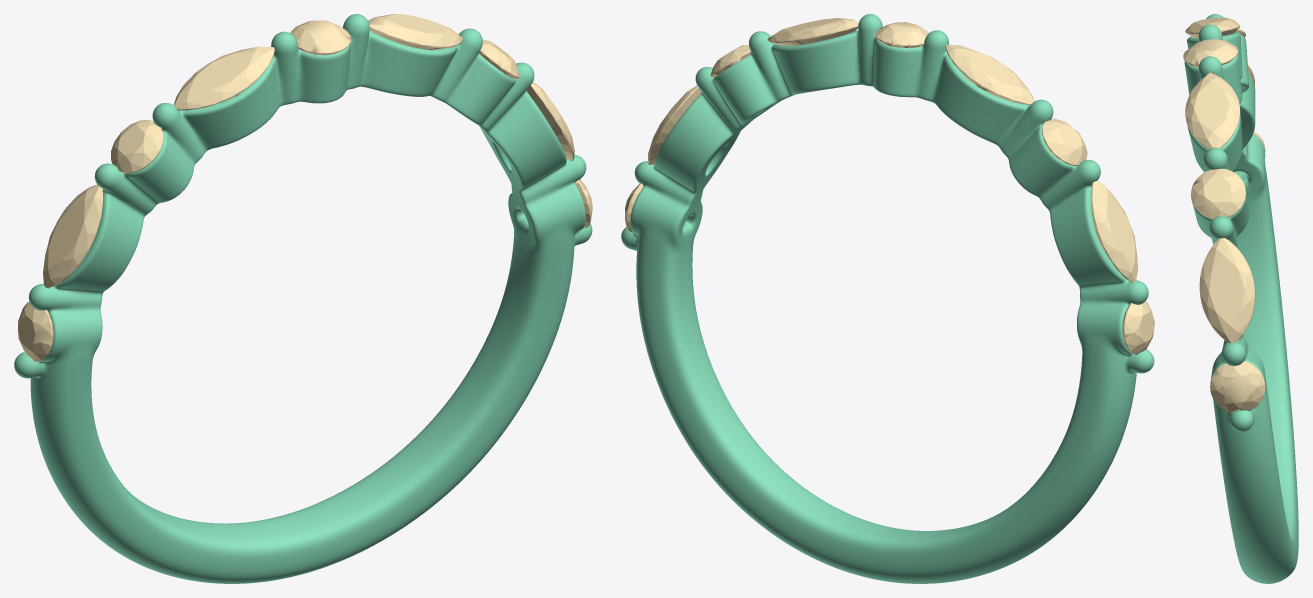
3 views of the same model, side by side, from view 1: azimuth 30°, elevation 25°; view 2: azimuth 150°, elevation 25°; view 3: azimuth 270°, elevation 25° (orthographic). The views are drawn at different scales.
Visible parts, largest first — view 1: Metal02, Diamond_Round.001, Diamond_Round.002, Diamond_Round.006, Diamond_Round, Diamond_Round.008, Diamond_Round.003, Diamond_Round.005, Diamond_Round.004; view 2: Metal02, Diamond_Round.001, Diamond_Round.002, Diamond_Round.006, Diamond_Round, Diamond_Round.003, Diamond_Round.008, Diamond_Round.005; view 3: Metal02, Diamond_Round.005, Diamond_Round.006, Diamond_Round.007, Diamond_Round.004, Diamond_Round.008, Diamond_Round.002.
Boxes of the visible parts, bbox=[...] form: Metal02: bbox=[14, 14, 592, 583]; Diamond_Round.001: bbox=[43, 184, 103, 288]; Diamond_Round.002: bbox=[174, 46, 274, 110]; Diamond_Round.006: bbox=[368, 14, 462, 49]; Diamond_Round: bbox=[111, 120, 163, 173]; Diamond_Round.008: bbox=[290, 20, 350, 55]; Diamond_Round.003: bbox=[18, 301, 53, 361]; Diamond_Round.005: bbox=[526, 82, 574, 160]; Diamond_Round.004: bbox=[479, 39, 519, 78]; Metal02: bbox=[621, 14, 1154, 583]; Diamond_Round.001: bbox=[1091, 180, 1138, 282]; Diamond_Round.002: bbox=[945, 44, 1034, 105]; Diamond_Round.006: bbox=[767, 18, 858, 45]; Diamond_Round: bbox=[1042, 118, 1087, 165]; Diamond_Round.003: bbox=[1122, 301, 1154, 354]; Diamond_Round.008: bbox=[875, 22, 928, 47]; Diamond_Round.005: bbox=[648, 85, 701, 164]; Metal02: bbox=[1184, 14, 1298, 583]; Diamond_Round.005: bbox=[1199, 238, 1254, 343]; Diamond_Round.006: bbox=[1185, 72, 1240, 149]; Diamond_Round.007: bbox=[1210, 361, 1265, 412]; Diamond_Round.004: bbox=[1191, 168, 1245, 218]; Diamond_Round.008: bbox=[1183, 39, 1238, 67]; Diamond_Round.002: bbox=[1185, 17, 1240, 38].
Bounding box in the file's own units: 21.65 × 20.66 × 4.19.
